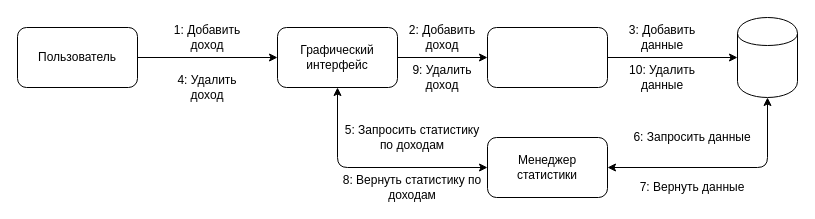
The diagram is 815 pixels wide and 219 high, and some of its shapes have lost their labels. The shapes that lost their labels are listed below. From the top down, each one's box as (x1, y1, x2, y2) in pixels, then its label:
(486, 26, 608, 88): Менеджер доходов
(736, 16, 798, 98): База данных
